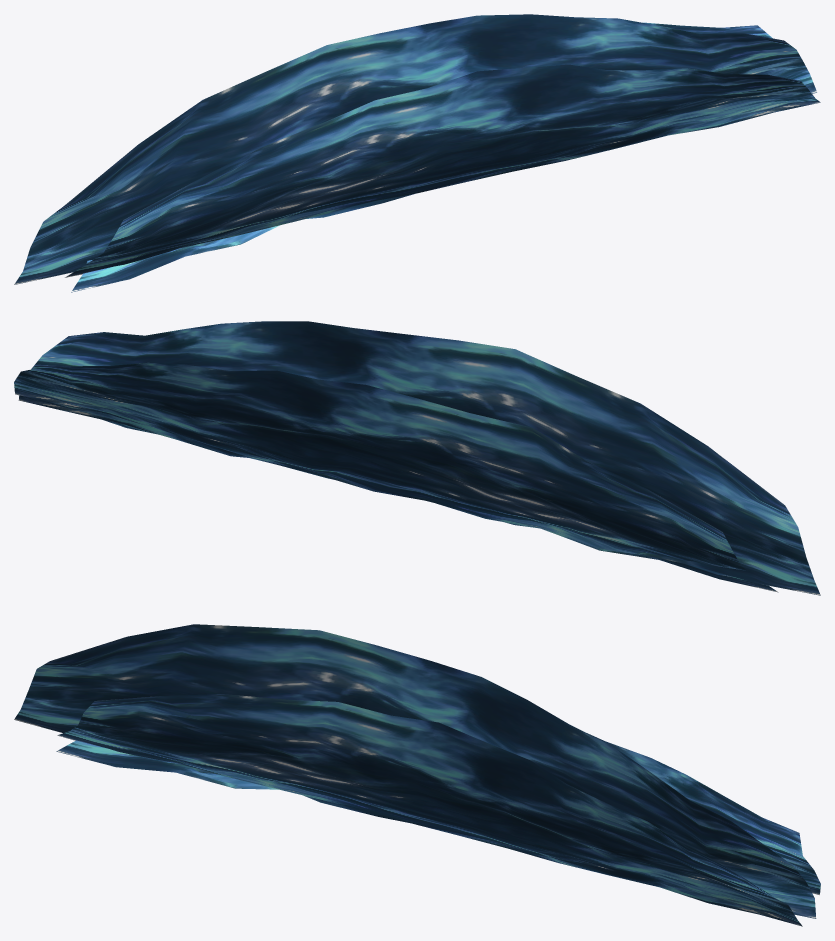
Rendered from shui.FBX.
3 renders of one model, top to bottom at view 1: azimuth 30°, elevation 25°; view 2: azimuth 150°, elevation 25°; view 3: azimuth 330°, elevation 25°, orthographic.
Visible parts, largest first — view 1: Plane03; view 2: Plane03; view 3: Plane03.
Part boxes in pixels (x1,y1,x2,y2): Plane03: (14,14,820,292); Plane03: (14,321,820,595); Plane03: (14,624,820,926).
Size of the model in its own units: 258 by 24.91 by 56.34.
